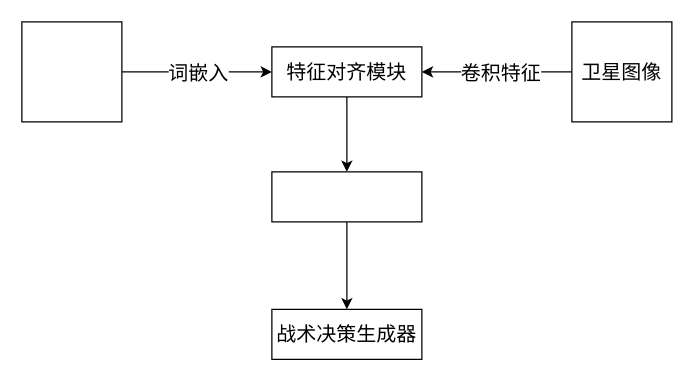
This 694x381 diagram has some shape labels left out. Each missing label, with the centre of its shape:
多模态联合表示向量: point 346,196
文本报告: point 71,71
